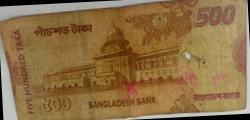500 taka: (3, 1, 245, 111)
